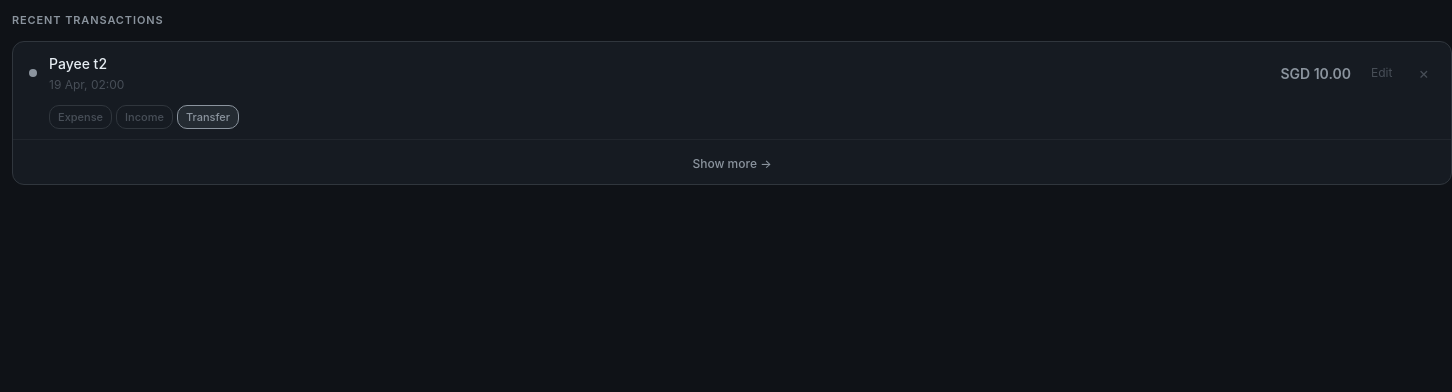
Test case: RecentTransactions — BUG-039: transfer type shows destination account picker › hides category picker in edit form for a transfer transaction
Check: the text "Payee t2" is shown, box [49,52,107,74]
What coordinates should you click on to do the following:
click the button "Edit"
I would click on:
 (1382, 73)
Its box is [1363,64,1400,82].
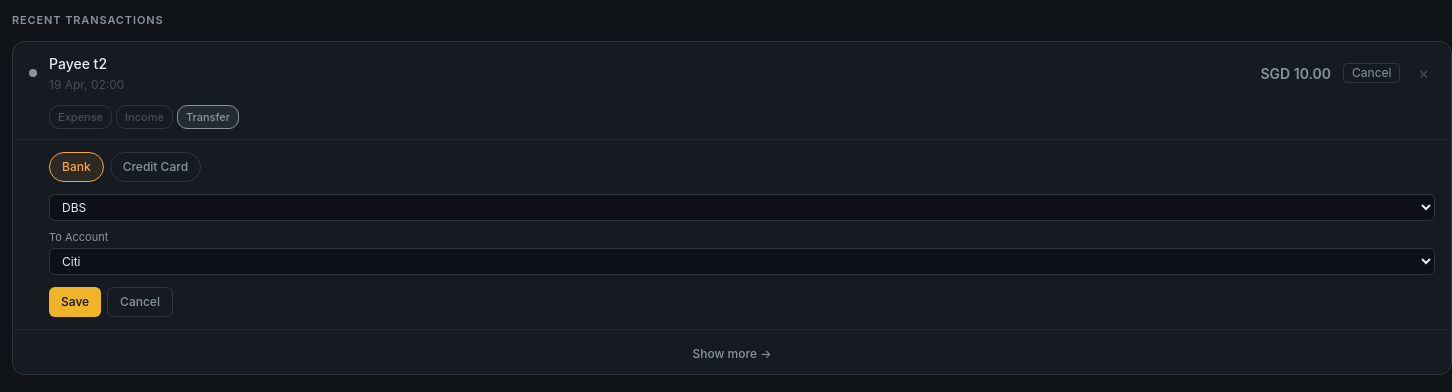
Check: the button "Save" is shown, box [49,287,101,317]
